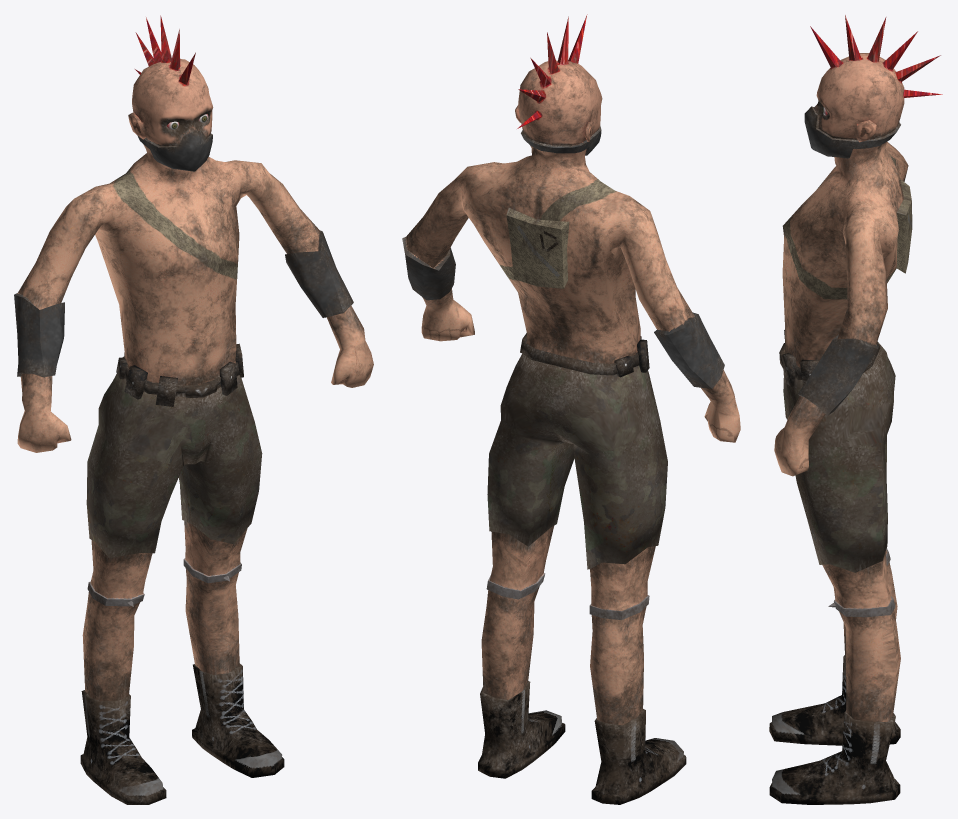
File: Anim_idle_npc2.0041.obj
3 views of the same model, side by side, from view 1: azimuth 30°, elevation 25°; view 2: azimuth 150°, elevation 25°; view 3: azimuth 270°, elevation 25° (orthographic). The views are drawn at different scales.
Visible parts, largest first — view 1: polySurface1; view 2: polySurface1; view 3: polySurface1.
Boxes of the visible parts, left/top/right/bottom form: polySurface1: left=14, top=15, right=373, bottom=804; polySurface1: left=402, top=14, right=740, bottom=804; polySurface1: left=769, top=15, right=942, bottom=804.
Bounding box in the file's own units: 4.8 × 10.18 × 2.13.
